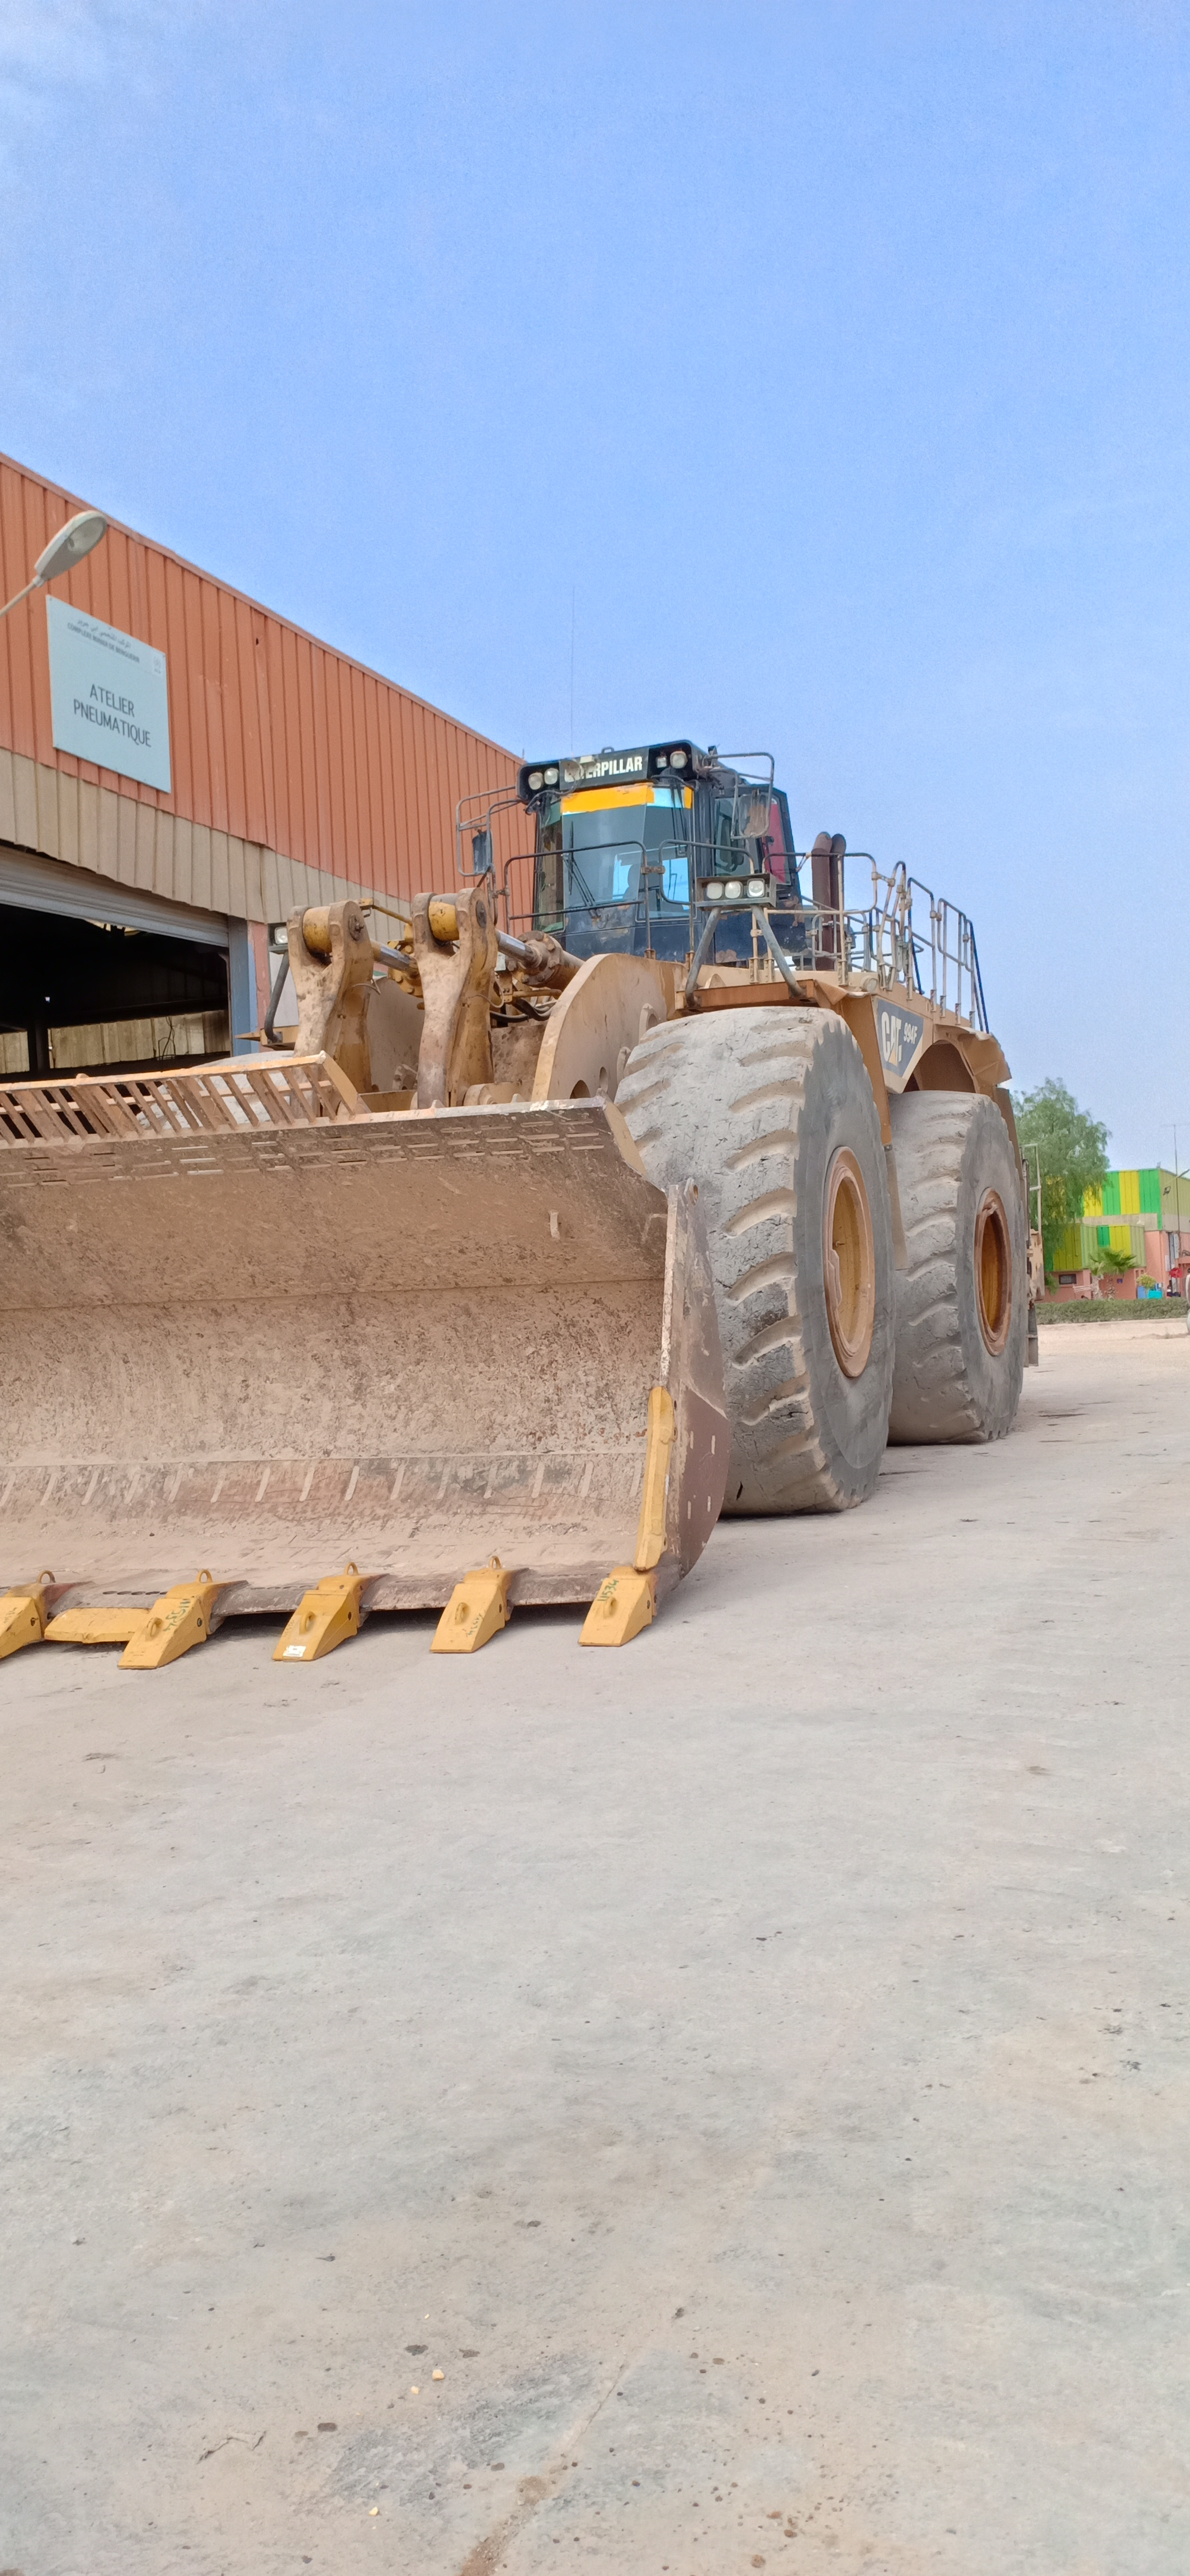chargeuse: (0, 741, 1052, 1697)
